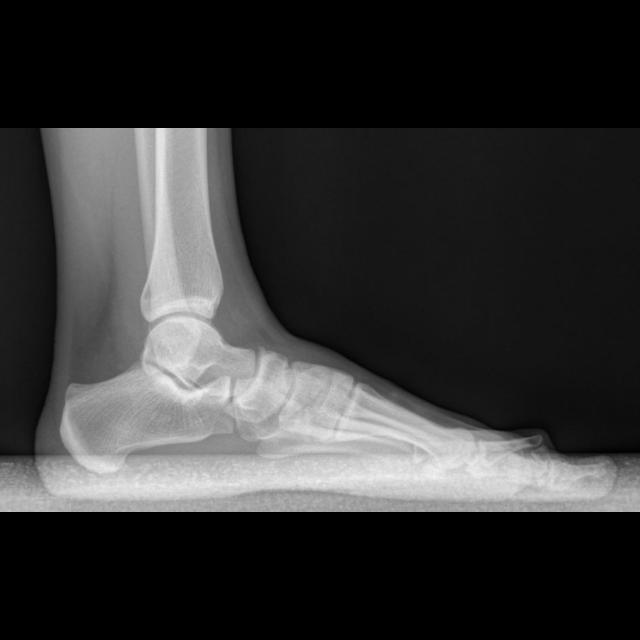a: (60, 368, 234, 473)
b: (230, 349, 291, 424)
c: (346, 383, 475, 470)
